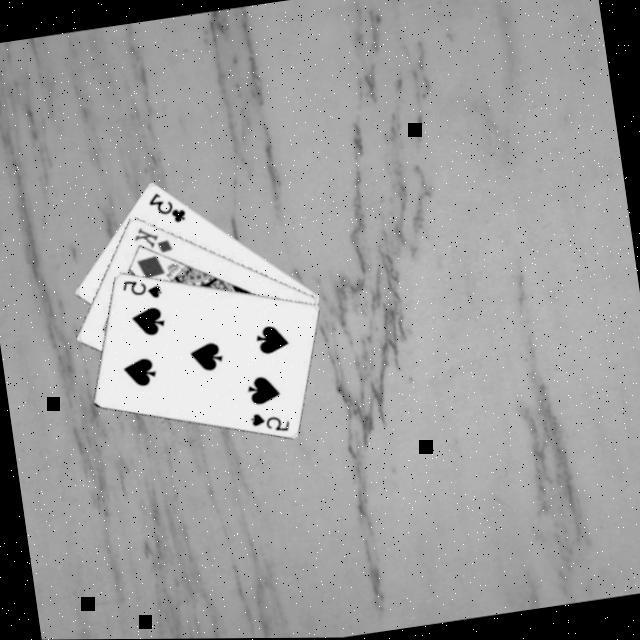3C: (145, 186, 192, 229)
5S: (120, 273, 167, 307), (248, 406, 295, 440)
KD: (132, 219, 179, 259)
